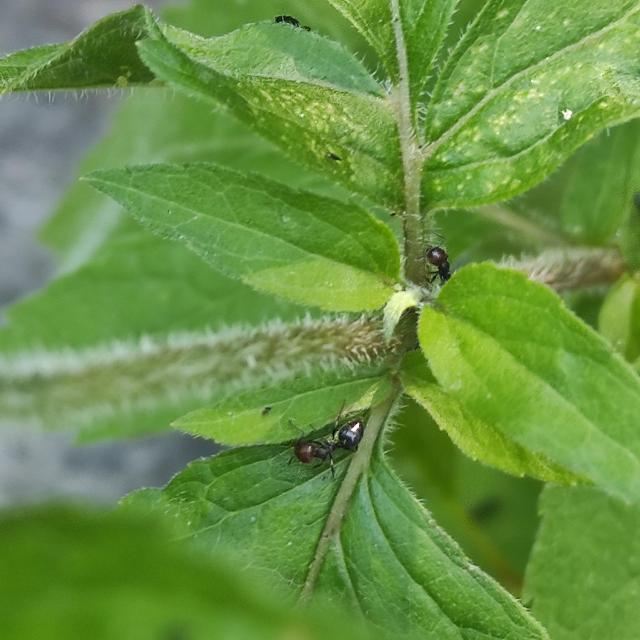Crematogaster: (272, 405, 366, 475), (414, 240, 456, 300)
